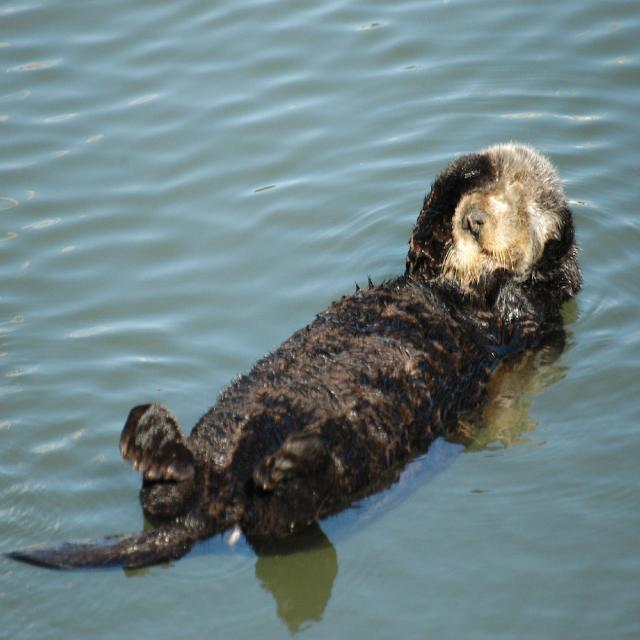otter: (122, 141, 579, 553)
